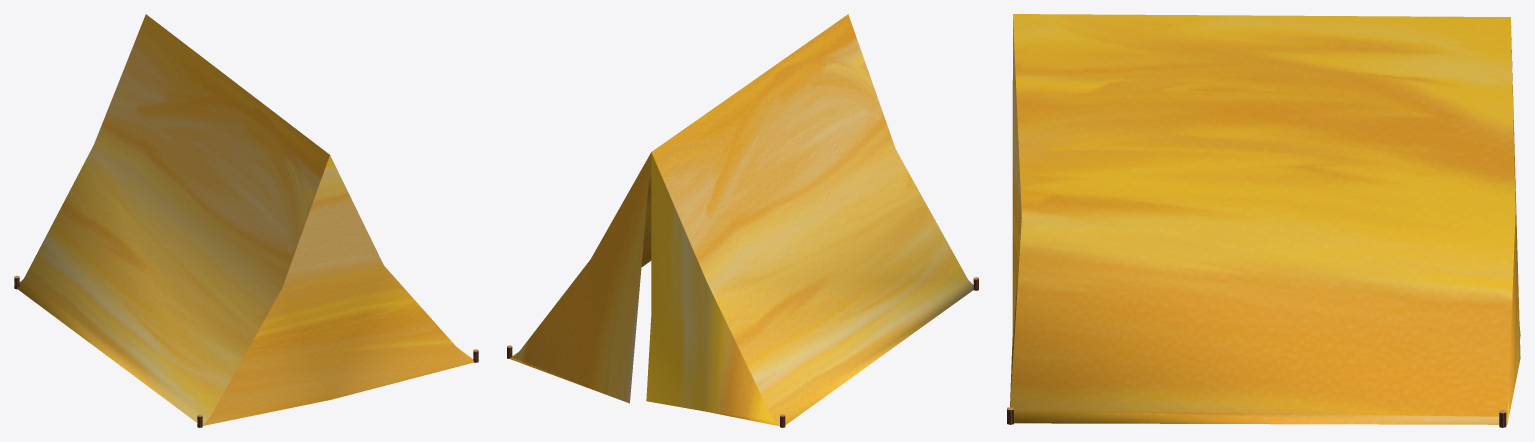
The model's file is Tent.fbx.
The picture shows the model from 3 angles, left to right: view 1: azimuth 30°, elevation 25°; view 2: azimuth 150°, elevation 25°; view 3: azimuth 270°, elevation 25°; orthographic projection. The views are drawn at different scales.
Parts seen in each view (by area): view 1: Barraca:Untitled_3:Cylinder_4; view 2: Barraca:Untitled_3:Cylinder_4; view 3: Barraca:Untitled_3:Cylinder_4.
Part boxes in pixels (x1=…): Barraca:Untitled_3:Cylinder_4: x1=14, y1=14, x2=478, y2=427; Barraca:Untitled_3:Cylinder_4: x1=507, y1=14, x2=978, y2=427; Barraca:Untitled_3:Cylinder_4: x1=1007, y1=14, x2=1520, y2=427.
Bounding box in the file's own units: 23.33 × 19.78 × 27.93.
